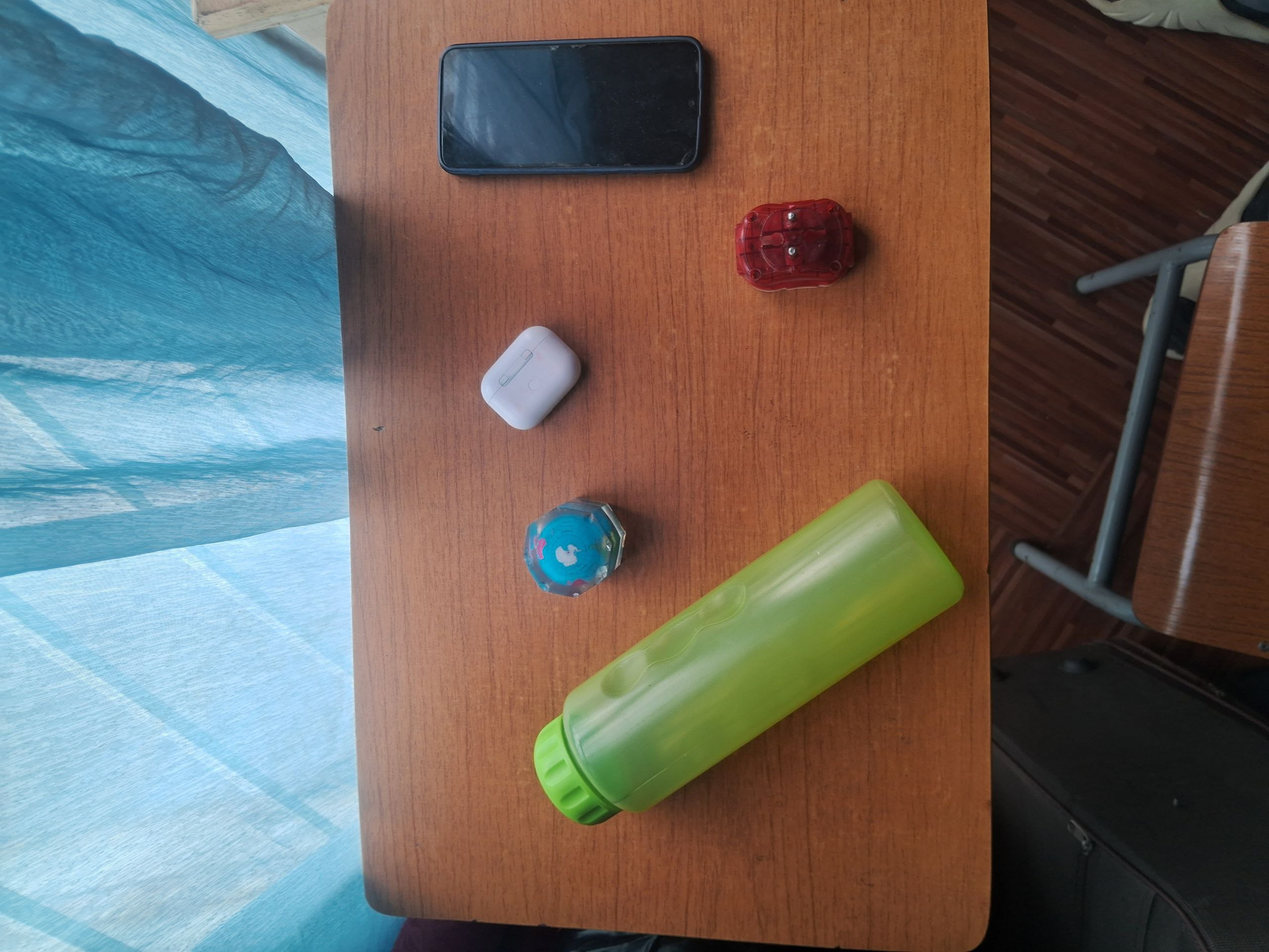Air_pod: (479, 323, 584, 434)
Multi_adapter: (732, 194, 859, 294)
Smart_phone: (431, 30, 717, 182)
Water_bottle: (531, 476, 966, 828)
world_globe: (520, 498, 628, 600)
